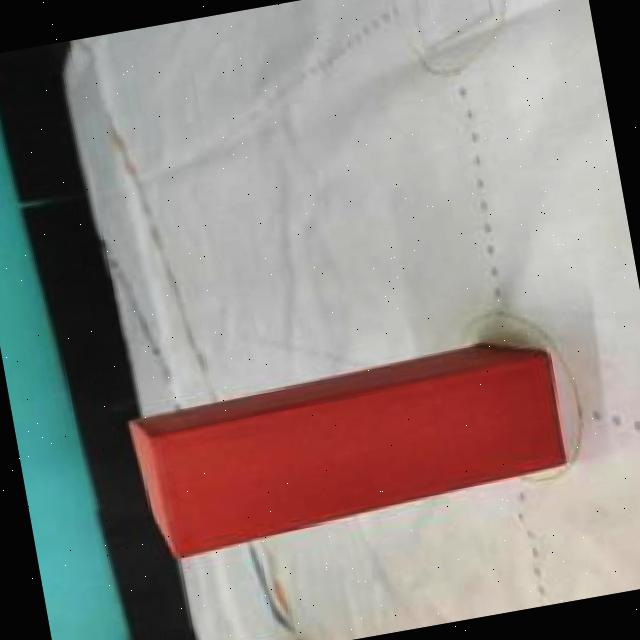redbox: (128, 331, 568, 556)
